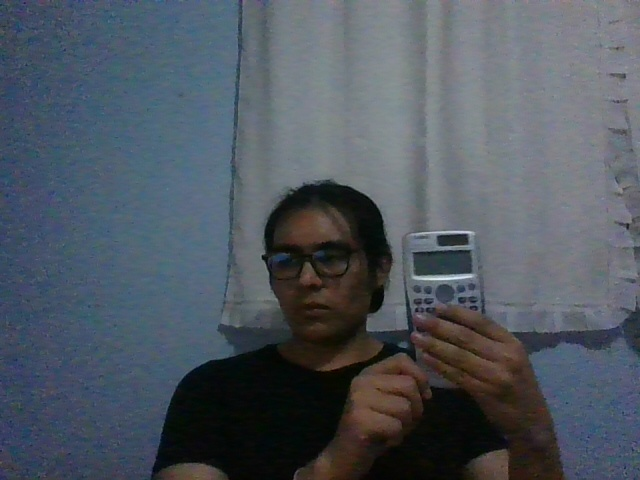calculadora: (402, 229, 486, 389)
